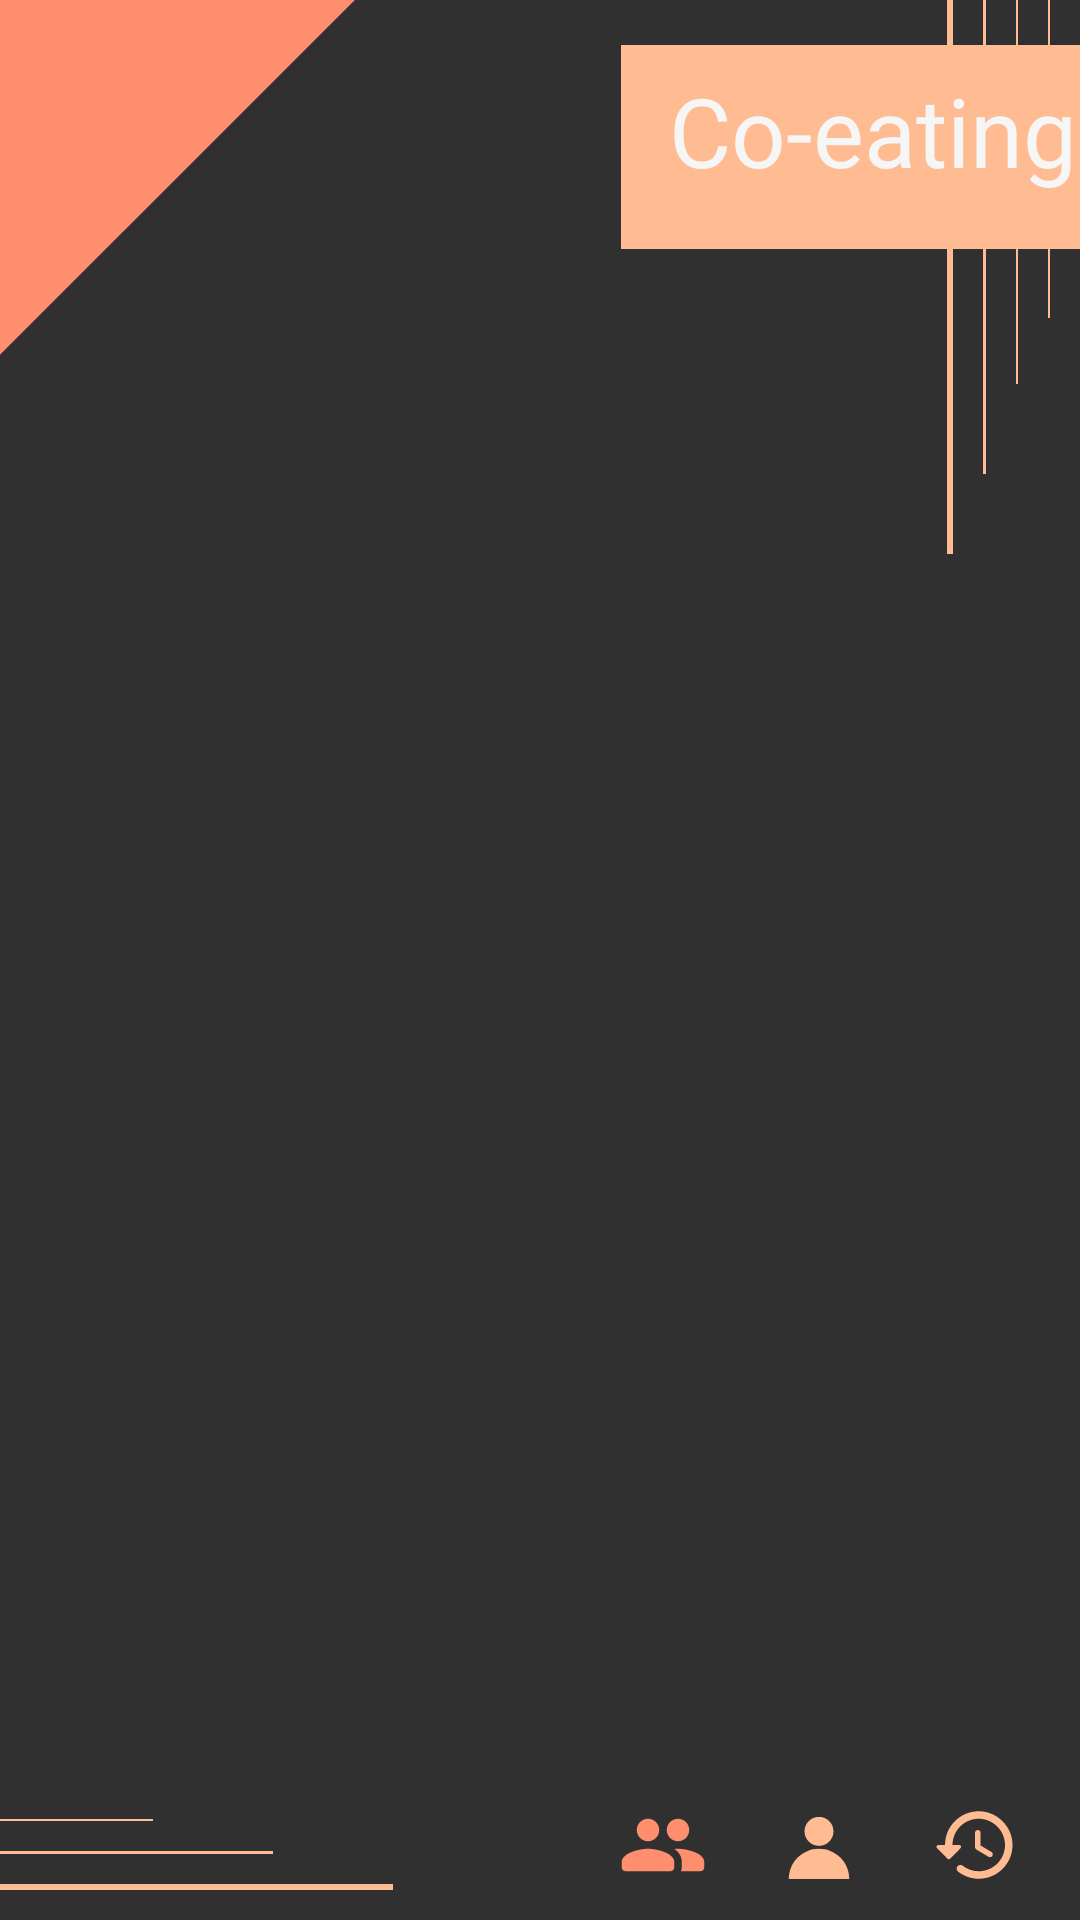

Named icons in this screenshot (1080px x 1920px) and their bounding boxes, BBox(x1, y1, x2, y2):
group salmon: BBox(621, 1818, 705, 1872)
history salmon: BBox(936, 1811, 1013, 1879)
